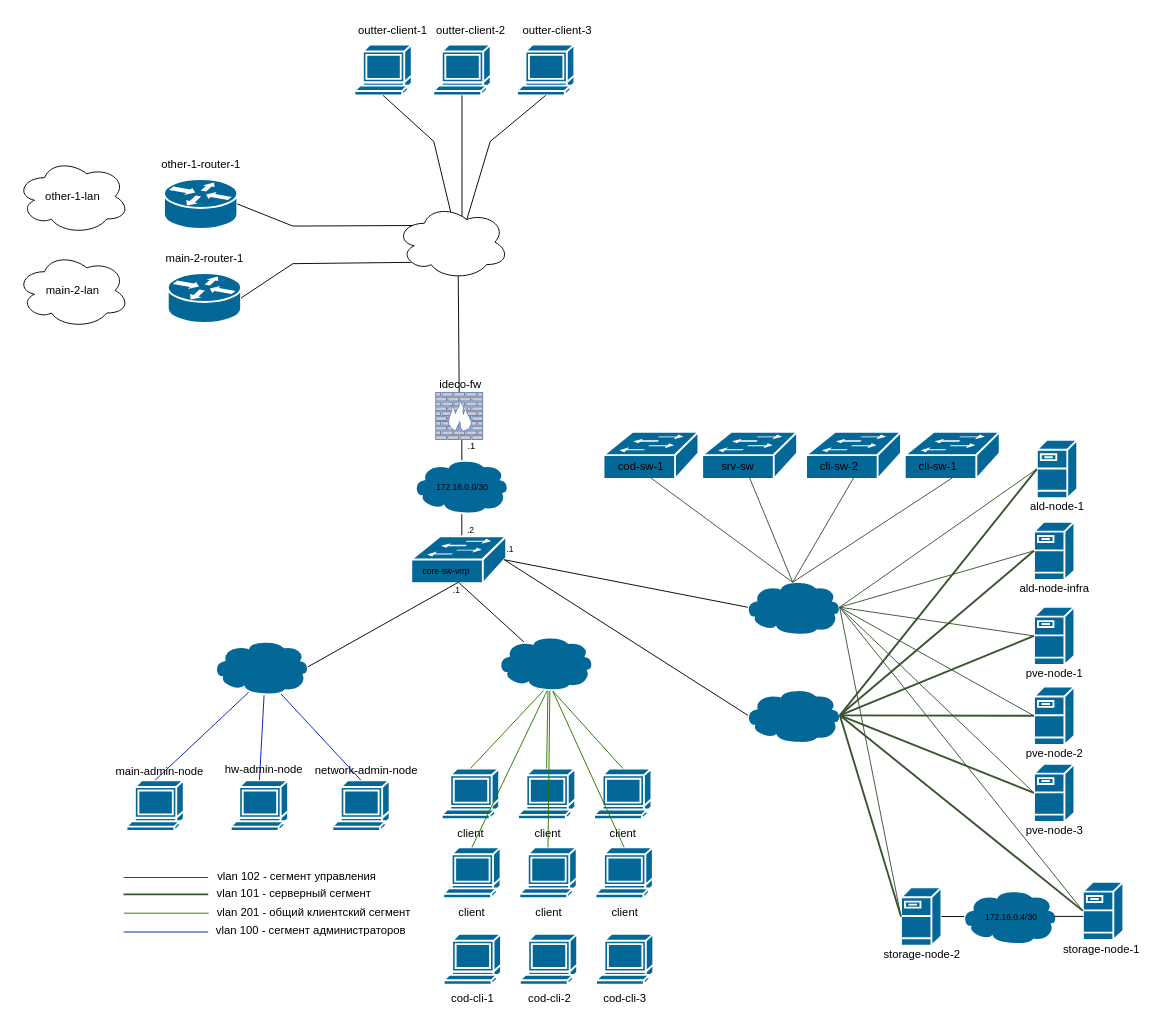
This 1165x1028 diagram has some shape labels left out. The centre of each missing label's shape, as x and y in pixels:
"10.0.0.0/23 VLAN 201" goes at pixel 545 662.
"10.0.2.0/24 VLAN 101" goes at pixel 792 715.
"192.168.100.0/24 VLAN 100" goes at pixel 260 666.
"192.168.101.0/24 VLAN 102" goes at pixel 792 606.
"OpenVPN" goes at pixel 452 242.
